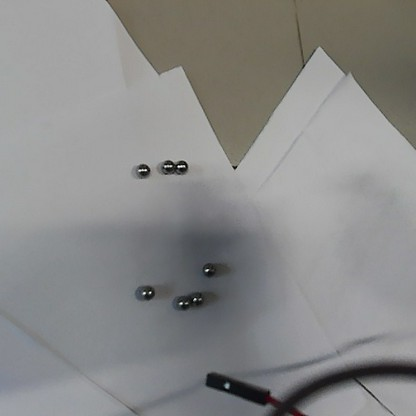ironball: (138, 283, 156, 300), (188, 291, 205, 306), (159, 156, 173, 174), (136, 163, 151, 179), (173, 158, 188, 174), (202, 261, 216, 278), (176, 294, 189, 311)
